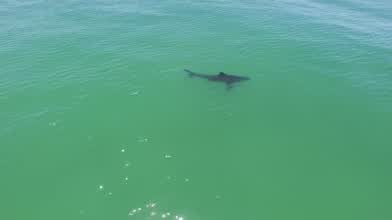shark: (179, 66, 252, 92)
